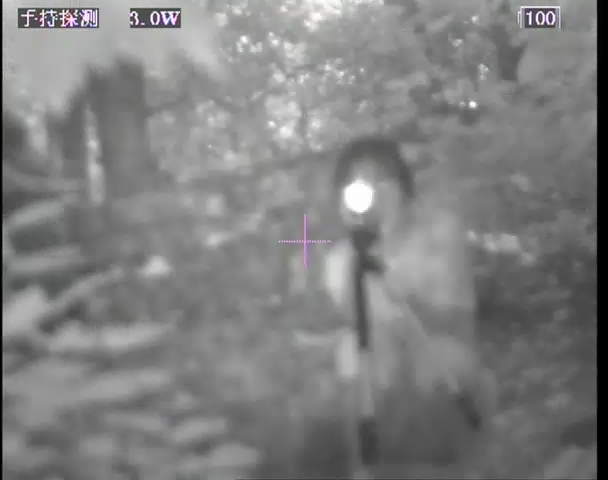my: (339, 178, 379, 213)
